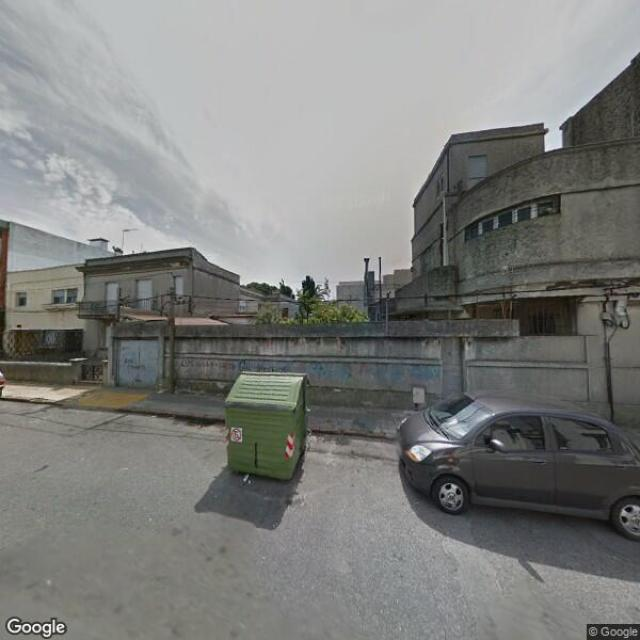garbage container: (219, 362, 318, 490)
